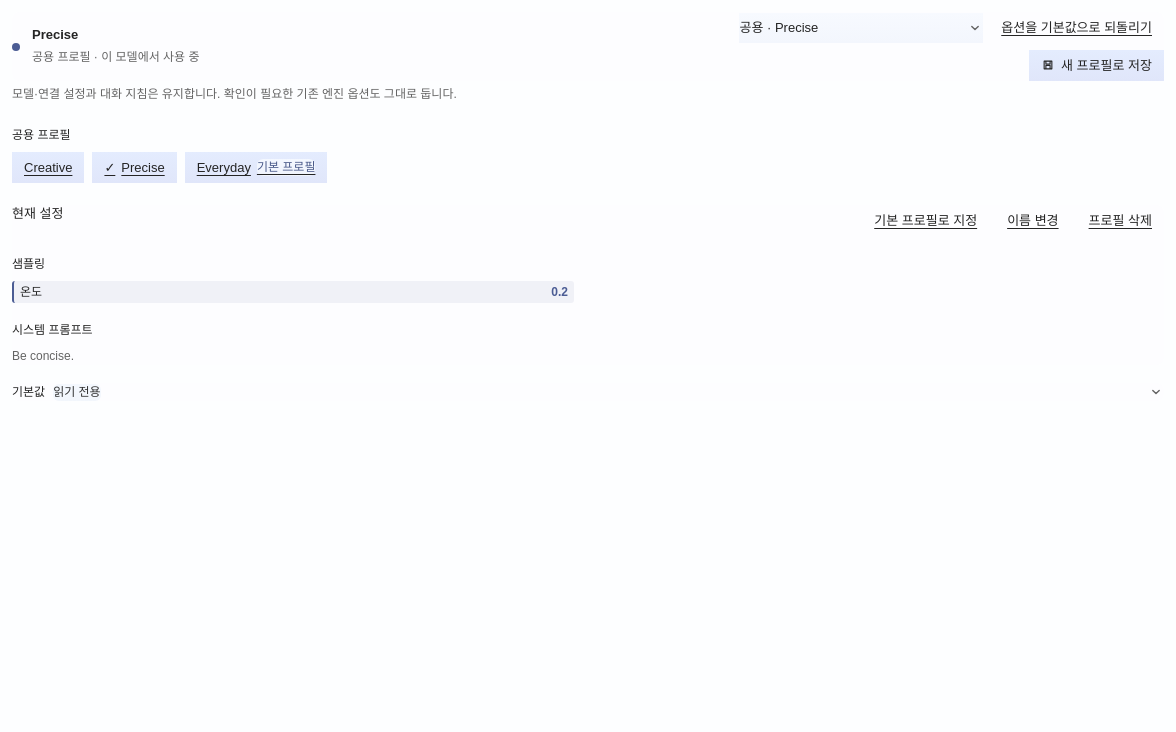
settings profile workspace › keeps creation and profile selection distinct in every layout in ko
This screenshot has width=1176, height=732.
Expected: the number of buttons "새 프로필로 저장" is 1, [1029,50,1164,81]
Click the button "Creative" at {"x": 48, "y": 167}, box [12,152,84,183]
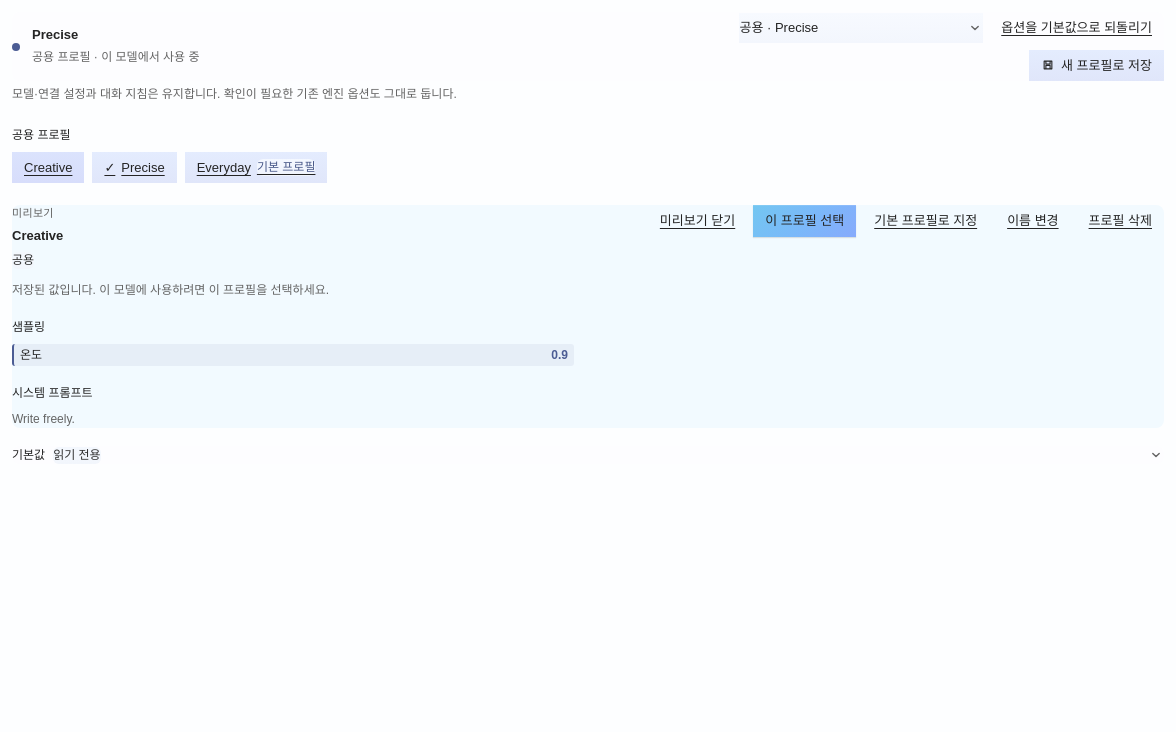
Now the button "이 프로필 선택" is enabled, box [753,205,856,237]
Click the button "새 프로필로 저장" at {"x": 1096, "y": 65}, box [1029,50,1164,81]
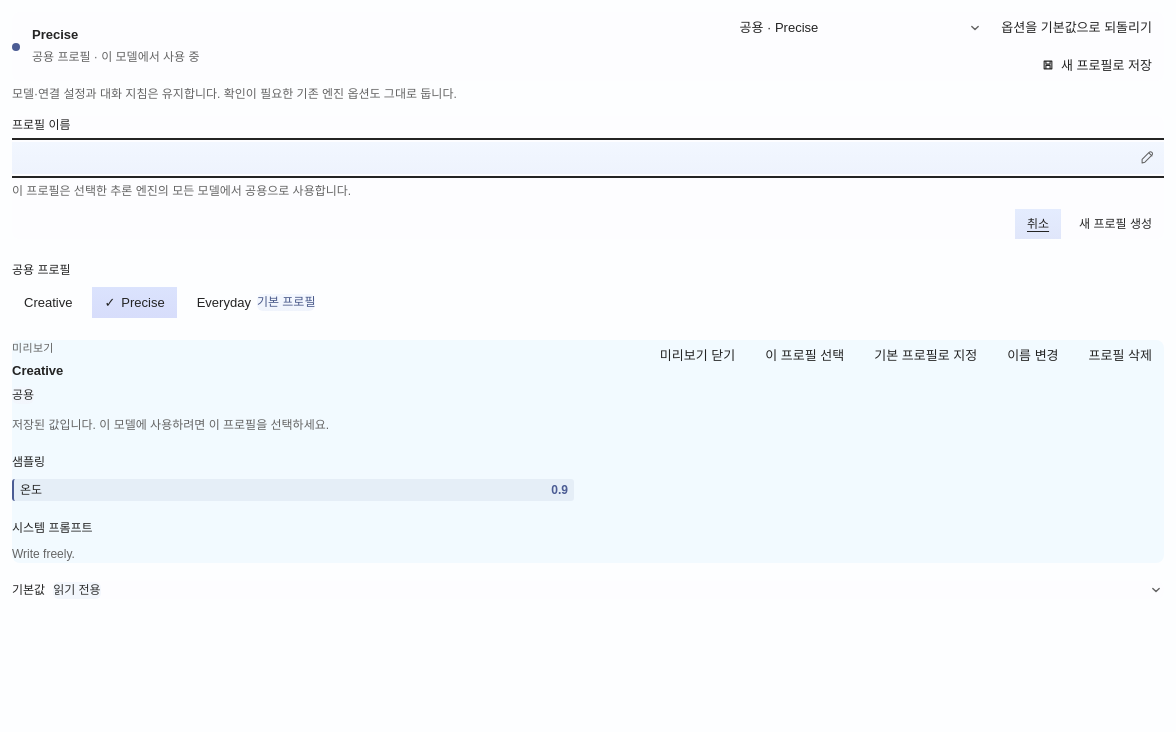
Now the button "새 프로필 생성" is disabled, box [1067,209,1164,239]
